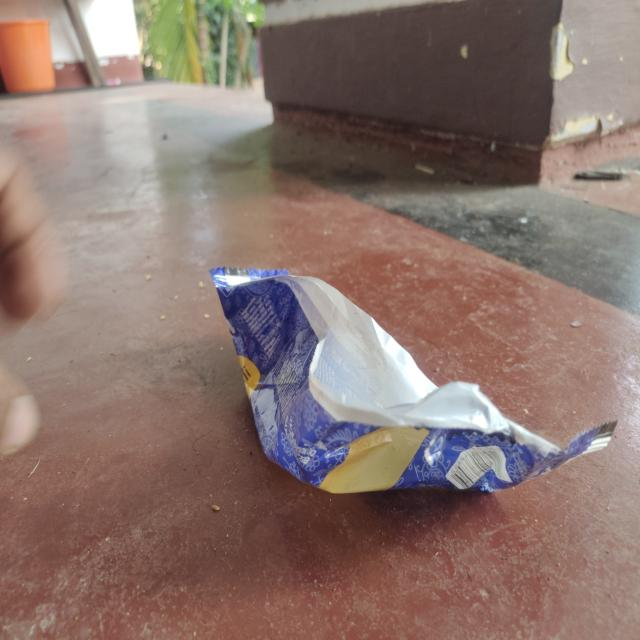plastic: (209, 260, 616, 501)
